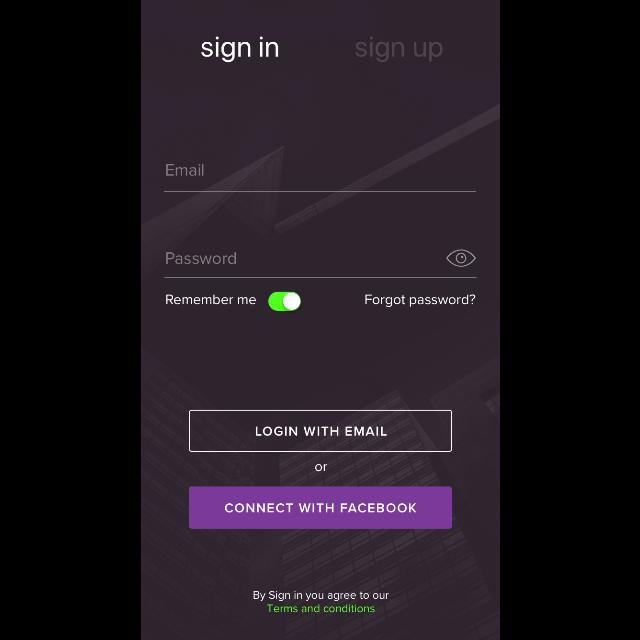backgroundimage: (140, 1, 500, 640)
icon: (446, 250, 476, 266)
input: (164, 164, 476, 192), (164, 250, 476, 278)
switch: (268, 292, 300, 312)
text: (253, 591, 389, 613), (356, 37, 442, 63), (201, 36, 279, 64), (364, 294, 476, 308), (166, 294, 256, 306), (165, 253, 235, 265), (166, 164, 204, 176), (315, 464, 327, 472)
textbutton: (188, 410, 452, 452), (188, 487, 452, 529)
